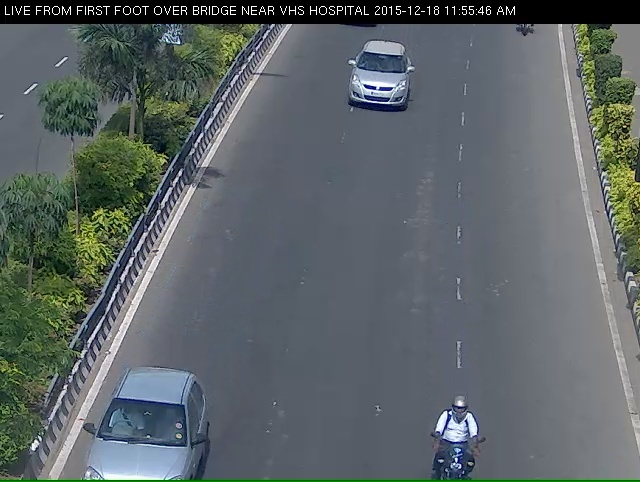Car: (66, 390, 209, 479), (339, 44, 421, 128)
